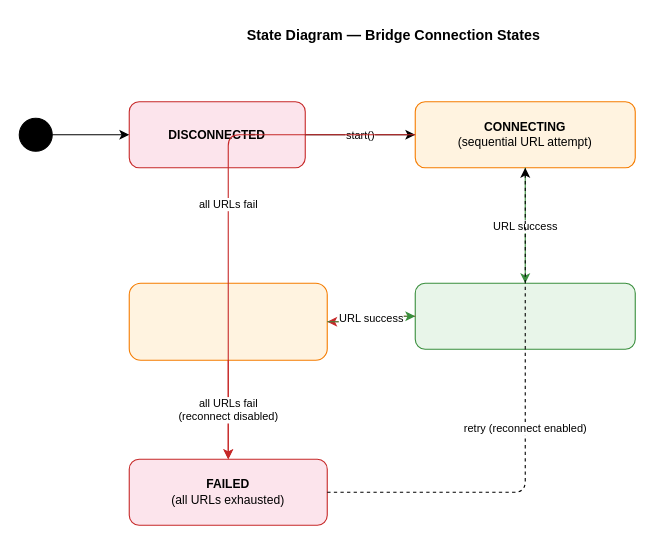
Image size: 655x545. Some labels were removed from this diagram. The box of each missing label's shape, as (x1, y1, x2, y2) in pixels:
CONNECTED (activeUrl set): (414, 282, 635, 349)
RECONNECTING (retry activeUrl 3x, then rotate): (128, 282, 327, 360)
